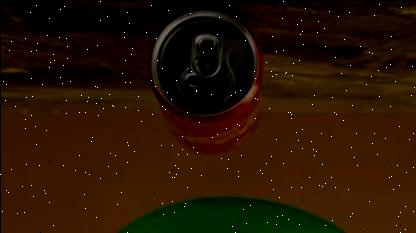Can: (145, 5, 263, 156)
